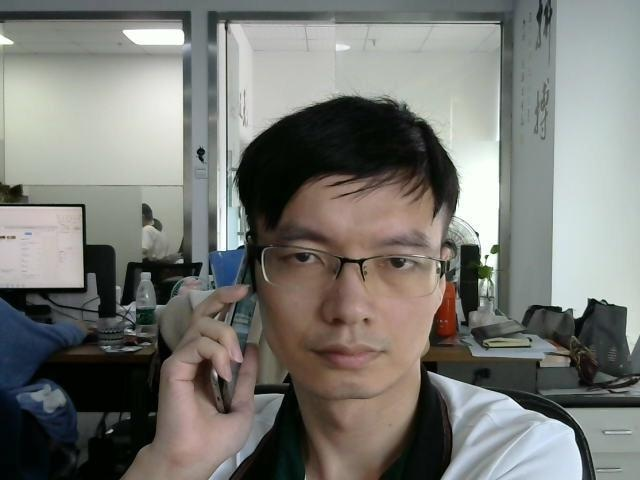hand: (162, 280, 263, 441)
